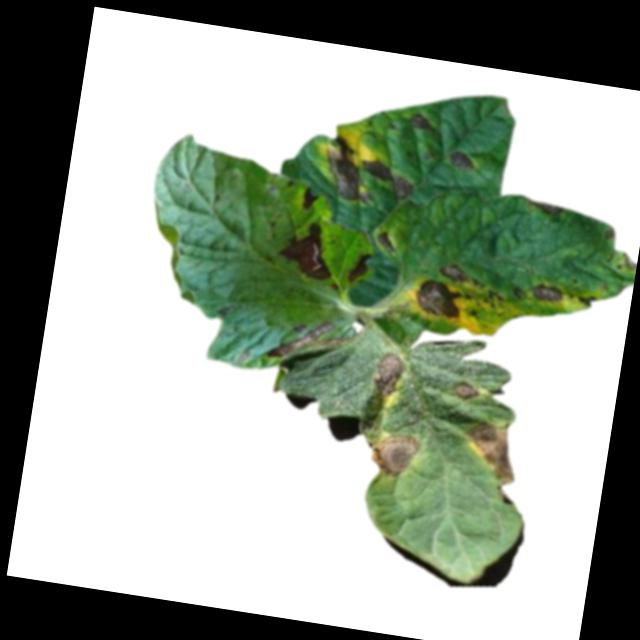Early_blight: (454, 417, 525, 488), (266, 312, 352, 369), (275, 214, 340, 281), (318, 135, 378, 203), (362, 427, 424, 482), (411, 275, 470, 324), (358, 154, 417, 201), (369, 348, 409, 399), (524, 197, 567, 220), (447, 145, 480, 174), (438, 260, 476, 284), (346, 249, 371, 285), (529, 280, 565, 304), (450, 378, 482, 402), (409, 110, 440, 133), (299, 186, 318, 210), (574, 292, 597, 309)
